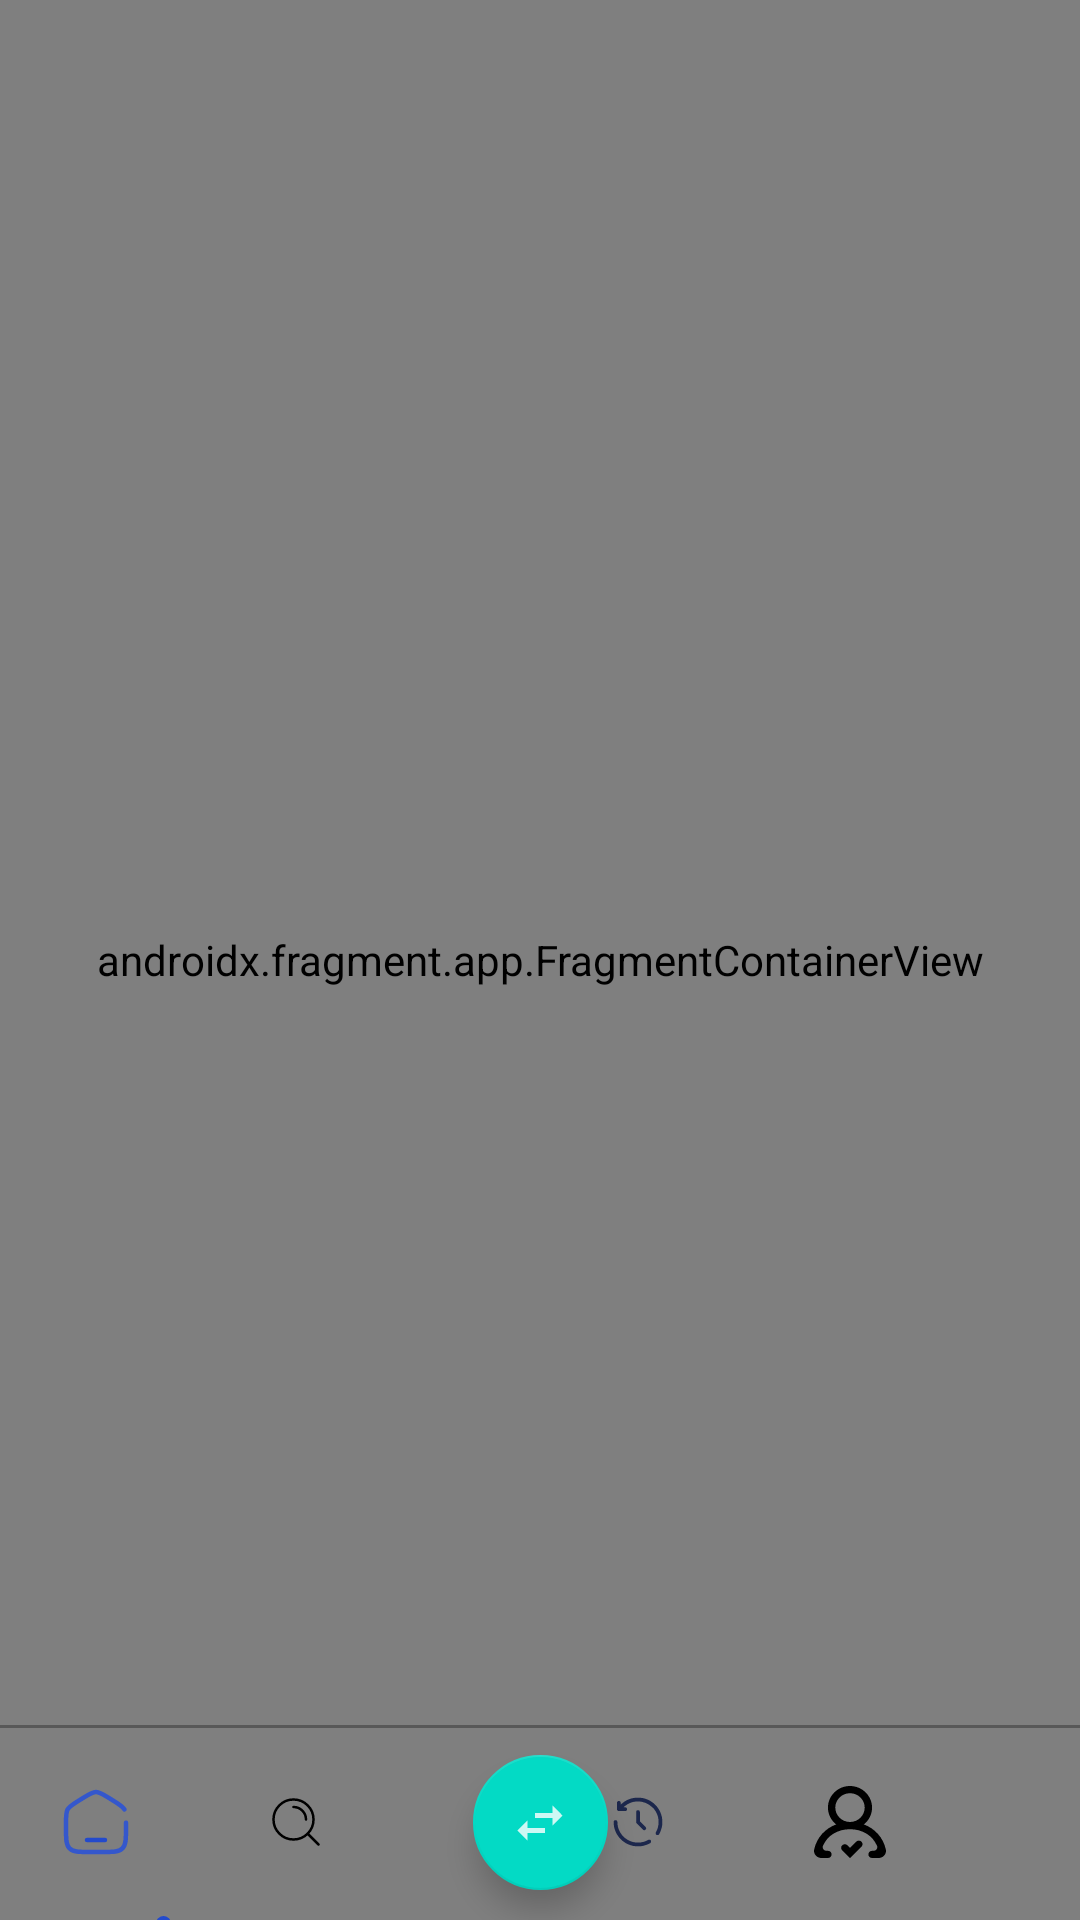

Screen size 1080px x 1920px. Icon name, then its box in pixels as [x1, y1, x2, y2]:
swap: [517, 1805, 563, 1841]
